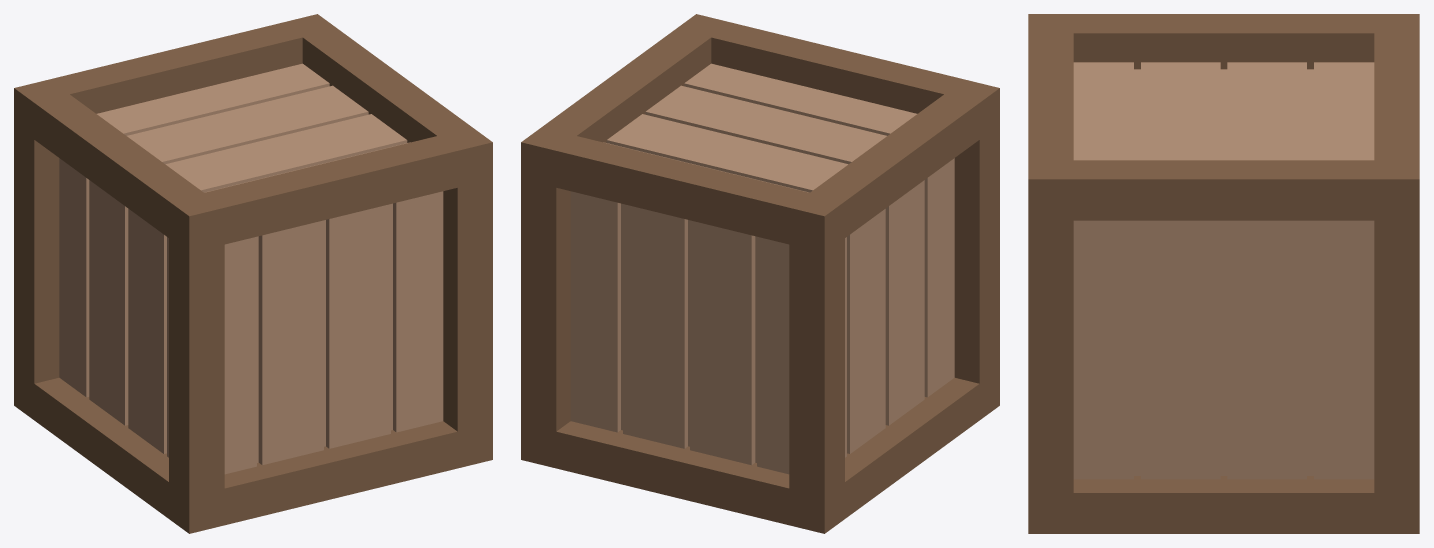
File: Wood Medium Crate 4.fbx
3 renders of one model, left to right at view 1: azimuth 30°, elevation 25°; view 2: azimuth 150°, elevation 25°; view 3: azimuth 270°, elevation 25°, orthographic. The views are drawn at different scales.
Visible parts, largest first — view 1: Wooden_Crate_Medium_2; view 2: Wooden_Crate_Medium_2; view 3: Wooden_Crate_Medium_2.
Part boxes in pixels (box(x1,y1,x2,y2)): Wooden_Crate_Medium_2: box(14, 14, 492, 533); Wooden_Crate_Medium_2: box(521, 14, 999, 533); Wooden_Crate_Medium_2: box(1028, 14, 1419, 533).
Bounding box in the file's own units: 113 × 113 × 113.
